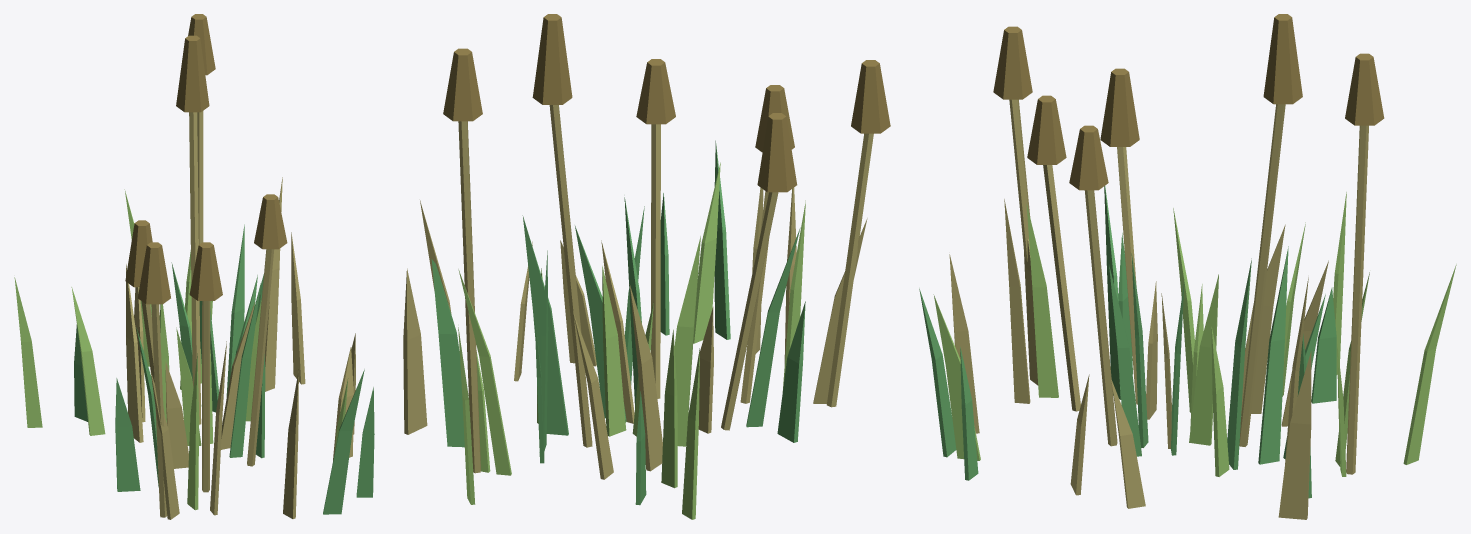
Rendered from grass_seedhead_d.glb.
3 views of the same model, side by side, from view 1: azimuth 30°, elevation 25°; view 2: azimuth 150°, elevation 25°; view 3: azimuth 270°, elevation 25° (orthographic). The views are drawn at different scales.
Parts seen in each view (by area): view 1: SeedGrass_2.003, SeedGrass_1.003, SeedGrass_3.003, Seed_Stem_6.003, Seed_Head_6.003, Seed_Stem_5.003, Seed_Stem_1.003, Seed_Head_4.003, Seed_Stem_4.003, Seed_Head_1.003, Seed_Head_5.003, Seed_Head_3.003 (+3 smaller); view 2: SeedGrass_1.003, SeedGrass_3.003, SeedGrass_2.003, Seed_Stem_6.003, Seed_Stem_2.003, Seed_Stem_4.003, Seed_Head_6.003, Seed_Stem_5.003, Seed_Stem_3.003, Seed_Head_3.003, Seed_Head_4.003, Seed_Head_2.003 (+3 smaller); view 3: SeedGrass_1.003, SeedGrass_2.003, SeedGrass_3.003, Seed_Stem_2.003, Seed_Stem_6.003, Seed_Head_6.003, Seed_Stem_5.003, Seed_Stem_1.003, Seed_Head_3.003, Seed_Head_4.003, Seed_Head_2.003, Seed_Head_1.003 (+3 smaller).
Part boxes in pixels (x1=…): SeedGrass_2.003: x1=126, y1=177, x2=355, y2=519; SeedGrass_1.003: x1=74, y1=224, x2=374, y2=514; SeedGrass_3.003: x1=14, y1=189, x2=348, y2=510; Seed_Stem_6.003: x1=189, y1=112, x2=201, y2=424; Seed_Head_6.003: x1=176, y1=35, x2=209, y2=112; Seed_Stem_5.003: x1=247, y1=249, x2=274, y2=466; Seed_Stem_1.003: x1=202, y1=301, x2=210, y2=492; Seed_Head_4.003: x1=138, y1=242, x2=170, y2=304; Seed_Stem_4.003: x1=151, y1=304, x2=167, y2=517; Seed_Head_1.003: x1=189, y1=242, x2=222, y2=300; Seed_Head_5.003: x1=254, y1=194, x2=287, y2=249; Seed_Head_3.003: x1=125, y1=220, x2=152, y2=287; SeedGrass_1.003: x1=431, y1=140, x2=805, y2=505; SeedGrass_3.003: x1=458, y1=162, x2=805, y2=519; SeedGrass_2.003: x1=403, y1=187, x2=867, y2=479; Seed_Stem_6.003: x1=549, y1=105, x2=592, y2=447; Seed_Stem_2.003: x1=458, y1=121, x2=480, y2=473; Seed_Stem_4.003: x1=826, y1=133, x2=873, y2=407; Seed_Head_6.003: x1=532, y1=14, x2=572, y2=104; Seed_Stem_5.003: x1=651, y1=124, x2=660, y2=398; Seed_Stem_3.003: x1=721, y1=192, x2=778, y2=430; Seed_Head_3.003: x1=757, y1=113, x2=797, y2=192; Seed_Head_4.003: x1=851, y1=60, x2=890, y2=133; Seed_Head_2.003: x1=443, y1=48, x2=482, y2=121; SeedGrass_1.003: x1=919, y1=186, x2=1336, y2=498; SeedGrass_2.003: x1=949, y1=199, x2=1328, y2=519; SeedGrass_3.003: x1=933, y1=192, x2=1456, y2=476; Seed_Stem_2.003: x1=1346, y1=125, x2=1368, y2=474; Seed_Stem_6.003: x1=1239, y1=104, x2=1285, y2=446; Seed_Head_6.003: x1=1263, y1=14, x2=1302, y2=104; Seed_Stem_5.003: x1=1084, y1=190, x2=1117, y2=446; Seed_Stem_1.003: x1=1043, y1=165, x2=1080, y2=411; Seed_Head_3.003: x1=1100, y1=68, x2=1139, y2=146; Seed_Head_4.003: x1=993, y1=26, x2=1032, y2=99; Seed_Head_2.003: x1=1345, y1=53, x2=1384, y2=125; Seed_Head_1.003: x1=1027, y1=95, x2=1066, y2=164.
Bounding box in the file's own units: 1.06 × 1.34 × 1.5.
